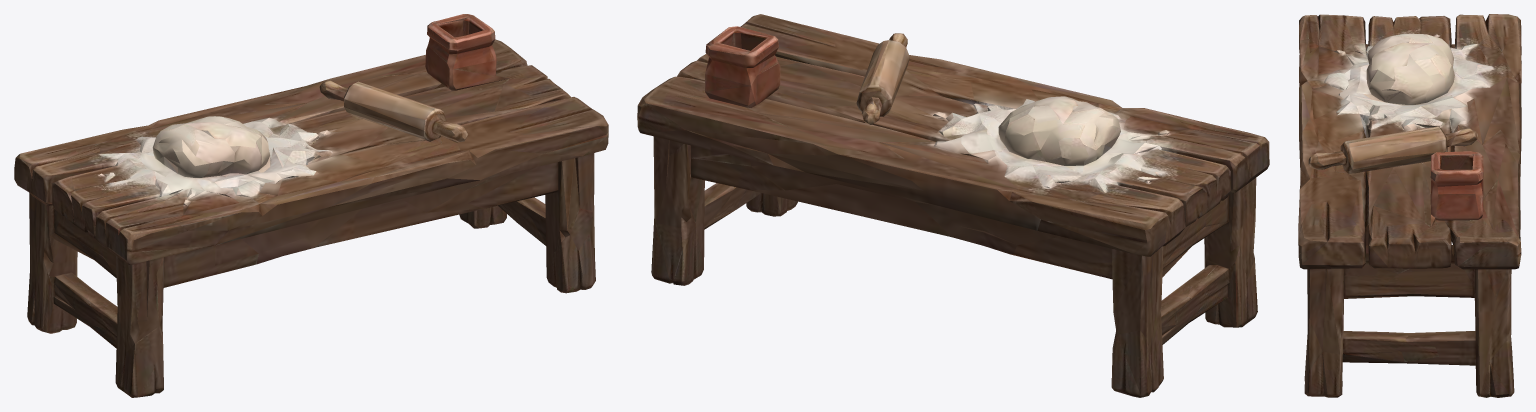
The model's file is dough_table_3d.glb.
The picture shows the model from 3 angles, left to right: view 1: azimuth 30°, elevation 25°; view 2: azimuth 150°, elevation 25°; view 3: azimuth 270°, elevation 25°; orthographic projection. The views are drawn at different scales.
Parts seen in each view (by area): view 1: Mesh_0; view 2: Mesh_0; view 3: Mesh_0.
Part boxes in pixels (x1,y1,x2,y2): Mesh_0: (14, 14, 608, 397); Mesh_0: (637, 14, 1269, 397); Mesh_0: (1298, 14, 1521, 397).
Size of the model in its own units: 1.88 by 0.8125 by 0.7808.
1 material, 1 textured.
